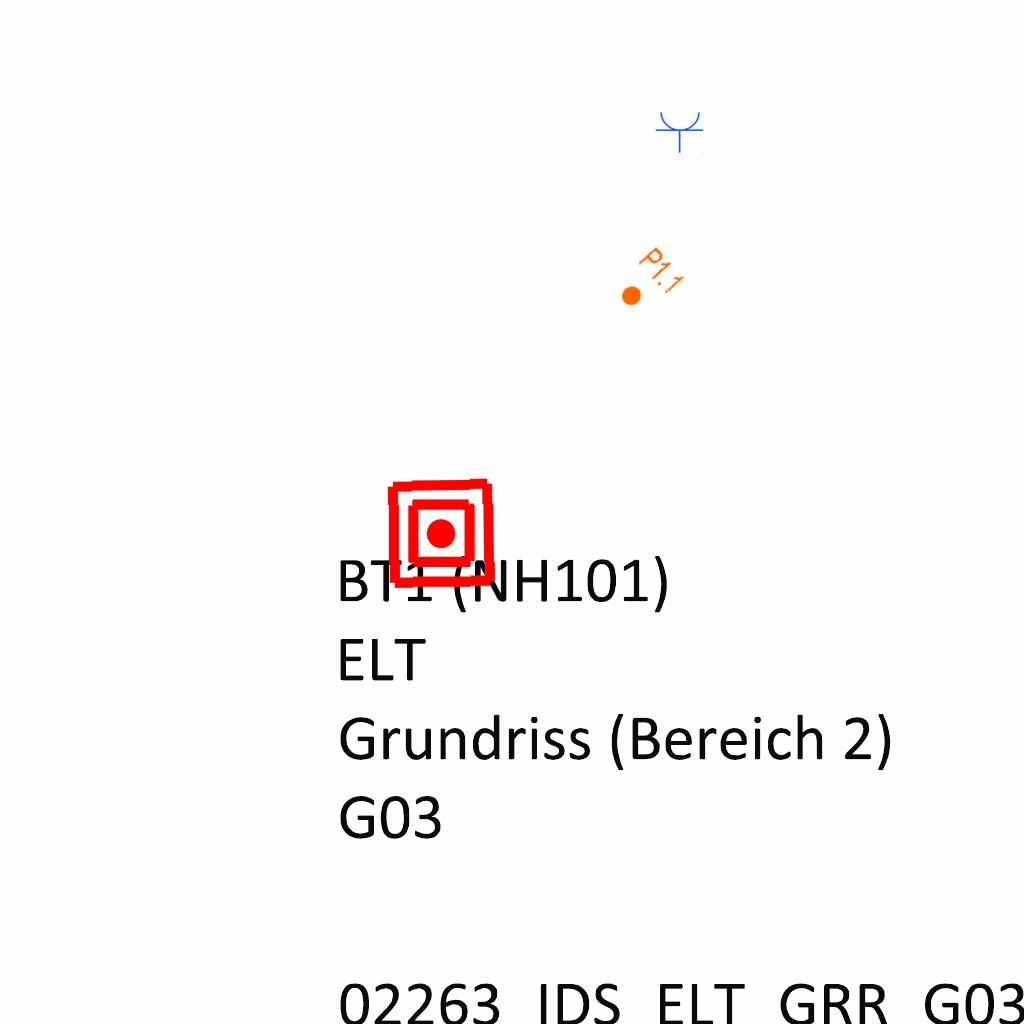Downlight_LED_Einbauleuchten_Flur_2: (608, 244, 688, 322)
NAM-Nichtautomatischer_Melder: (384, 476, 499, 591)
Schukosteckdose_einfach: (655, 110, 705, 153)
